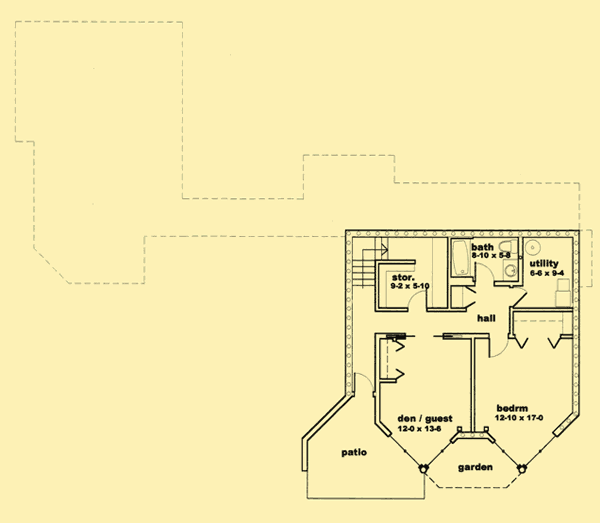door: (472, 259, 496, 287), (351, 371, 375, 398), (487, 331, 510, 359), (505, 284, 531, 308), (406, 290, 433, 311)
large_sink: (496, 239, 517, 256)
small_sink: (502, 259, 519, 282)
stairs: (352, 236, 393, 294)
tub: (448, 239, 473, 279)
